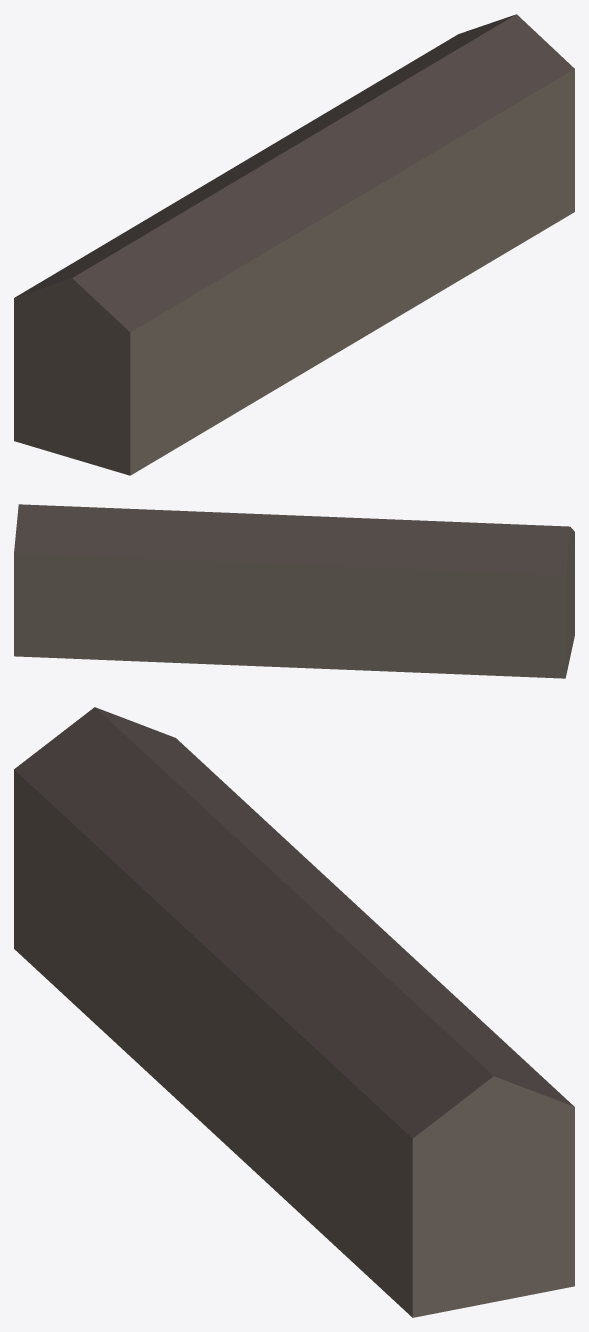
3 renders of one model, top to bottom at view 1: azimuth 30°, elevation 25°; view 2: azimuth 150°, elevation 25°; view 3: azimuth 270°, elevation 25°, orthographic. The views are drawn at different scales.
Parts seen in each view (by area): view 1: HP-w389702025; view 2: HP-w389702025; view 3: HP-w389702025.
Part boxes in pixels (x1,y1,x2,y2): HP-w389702025: [14, 14, 574, 475]; HP-w389702025: [14, 504, 574, 678]; HP-w389702025: [14, 707, 574, 1317].
Size of the model in its own units: 28.77 by 7.56 by 17.02.
